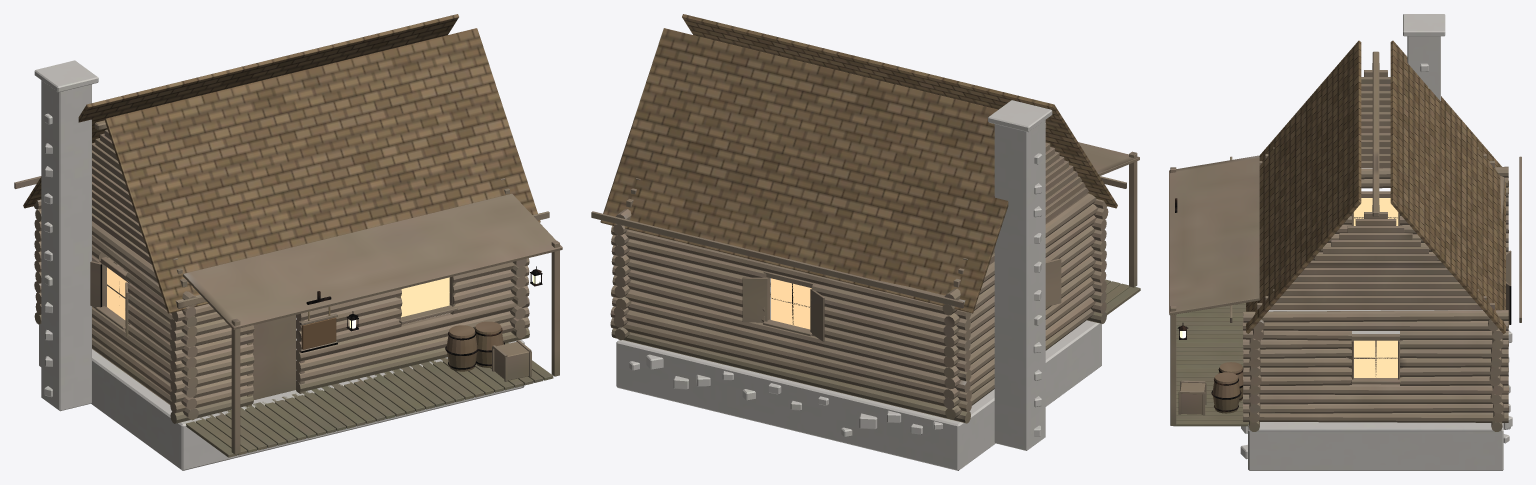
Rendered from cabin_tavern.glb.
3 renders of one model, left to right at view 1: azimuth 30°, elevation 25°; view 2: azimuth 150°, elevation 25°; view 3: azimuth 270°, elevation 25°, orthographic. The views are drawn at different scales.
Parts seen in each view (by area): view 1: Tavern_opaque, Tavern_winglass; view 2: Tavern_opaque, Tavern_winglass; view 3: Tavern_opaque, Tavern_winglass.
Part boxes in pixels (x1=…): Tavern_opaque: x1=14, y1=14, x2=562, y2=470; Tavern_winglass: x1=107, y1=267, x2=449, y2=319; Tavern_opaque: x1=591, y1=14, x2=1140, y2=470; Tavern_winglass: x1=771, y1=278, x2=811, y2=329; Tavern_opaque: x1=1169, y1=14, x2=1521, y2=470; Tavern_winglass: x1=1353, y1=198, x2=1398, y2=377.
Bounding box in the file's own units: 8.41 × 6.7 × 7.31.
Materials: 3 (1 with a texture image).
